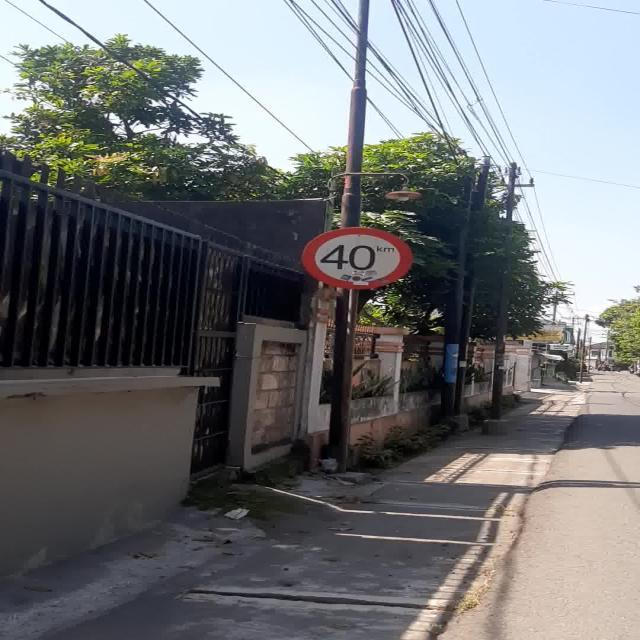Kecepatan Maks. 40 km: (300, 227, 412, 290)
